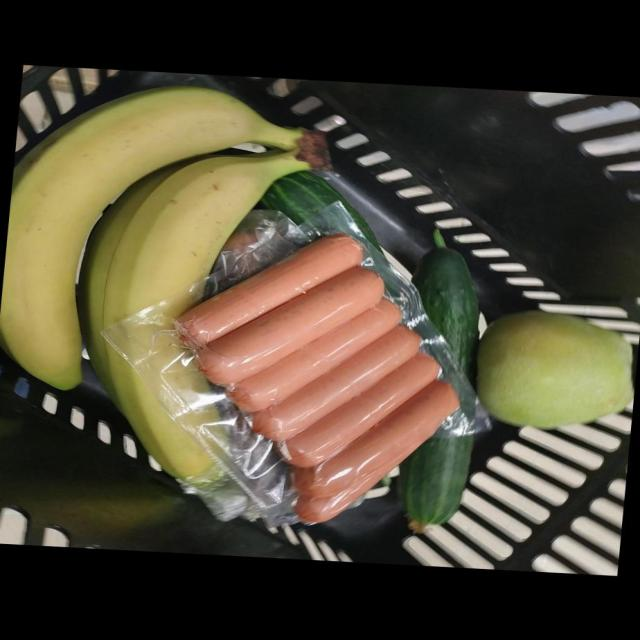apple: (236, 201, 640, 623)
banana: (39, 169, 146, 561), (7, 182, 63, 569)
cucumber: (201, 261, 617, 640), (208, 145, 637, 464), (135, 100, 430, 324)
